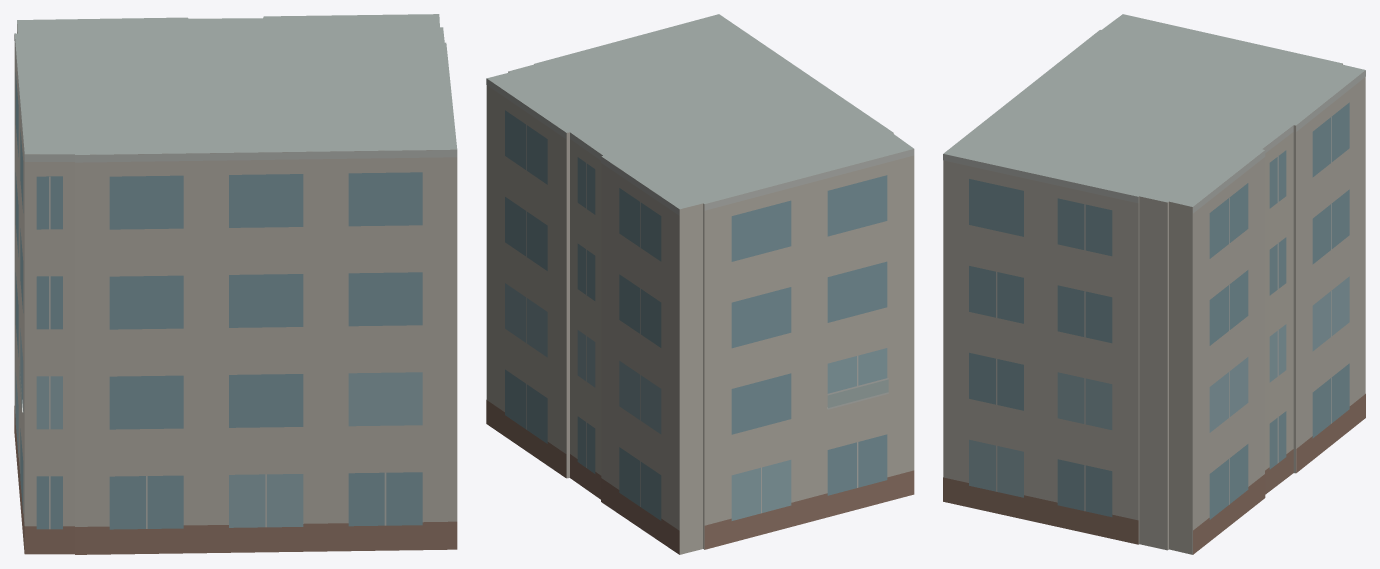
Rendered from survey-upis-32657334.glb.
3 views of the same model, side by side, from view 1: azimuth 30°, elevation 25°; view 2: azimuth 150°, elevation 25°; view 3: azimuth 270°, elevation 25° (orthographic). The views are drawn at different scales.
Parts seen in each view (by area): view 1: survey-upis-32657334.tmp; view 2: survey-upis-32657334.tmp; view 3: survey-upis-32657334.tmp.
Part boxes in pixels (x1=…): survey-upis-32657334.tmp: x1=14, y1=14, x2=457, y2=554; survey-upis-32657334.tmp: x1=486, y1=14, x2=914, y2=554; survey-upis-32657334.tmp: x1=943, y1=14, x2=1365, y2=554.
Bounding box in the file's own units: 15.28 × 12.83 × 14.14.
